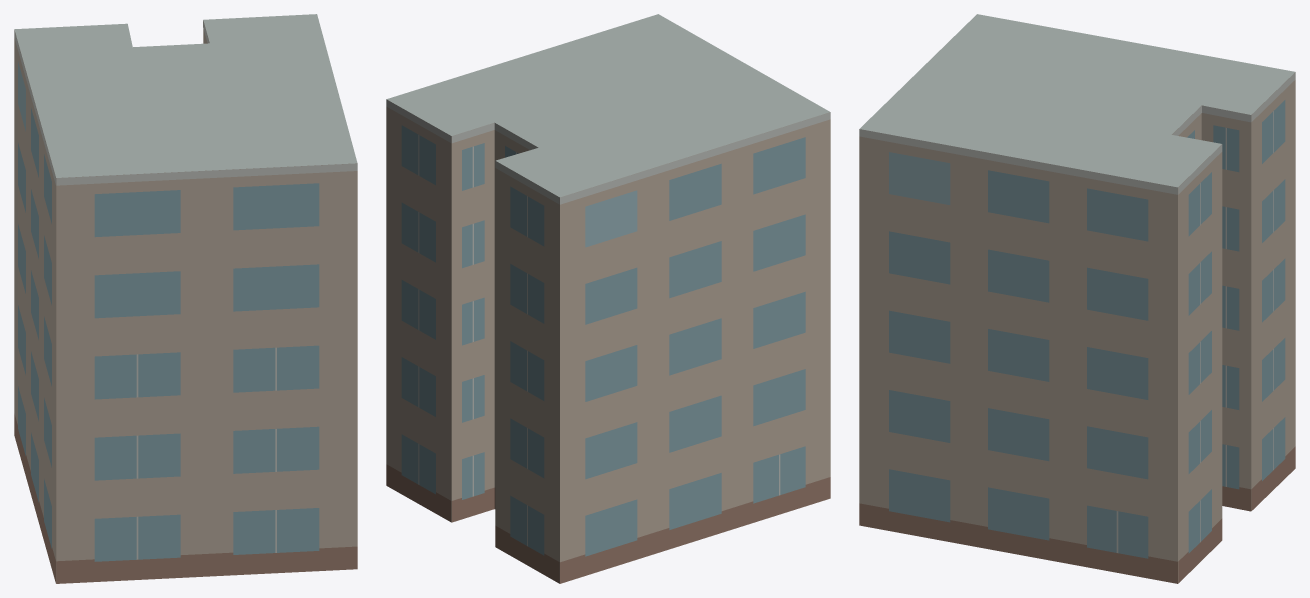
The model's file is survey-upis-32534575.glb.
3 renders of one model, left to right at view 1: azimuth 30°, elevation 25°; view 2: azimuth 150°, elevation 25°; view 3: azimuth 270°, elevation 25°, orthographic. The views are drawn at different scales.
Parts seen in each view (by area): view 1: survey-upis-32534575.tmp; view 2: survey-upis-32534575.tmp; view 3: survey-upis-32534575.tmp.
Part boxes in pixels (x1,y1,x2,y2): survey-upis-32534575.tmp: [14, 14, 357, 583]; survey-upis-32534575.tmp: [386, 14, 830, 583]; survey-upis-32534575.tmp: [859, 14, 1295, 583].
Size of the model in its own units: 12.2 by 13 by 12.98.
